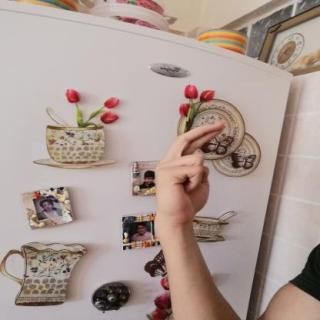ZAY: (147, 117, 234, 233)
